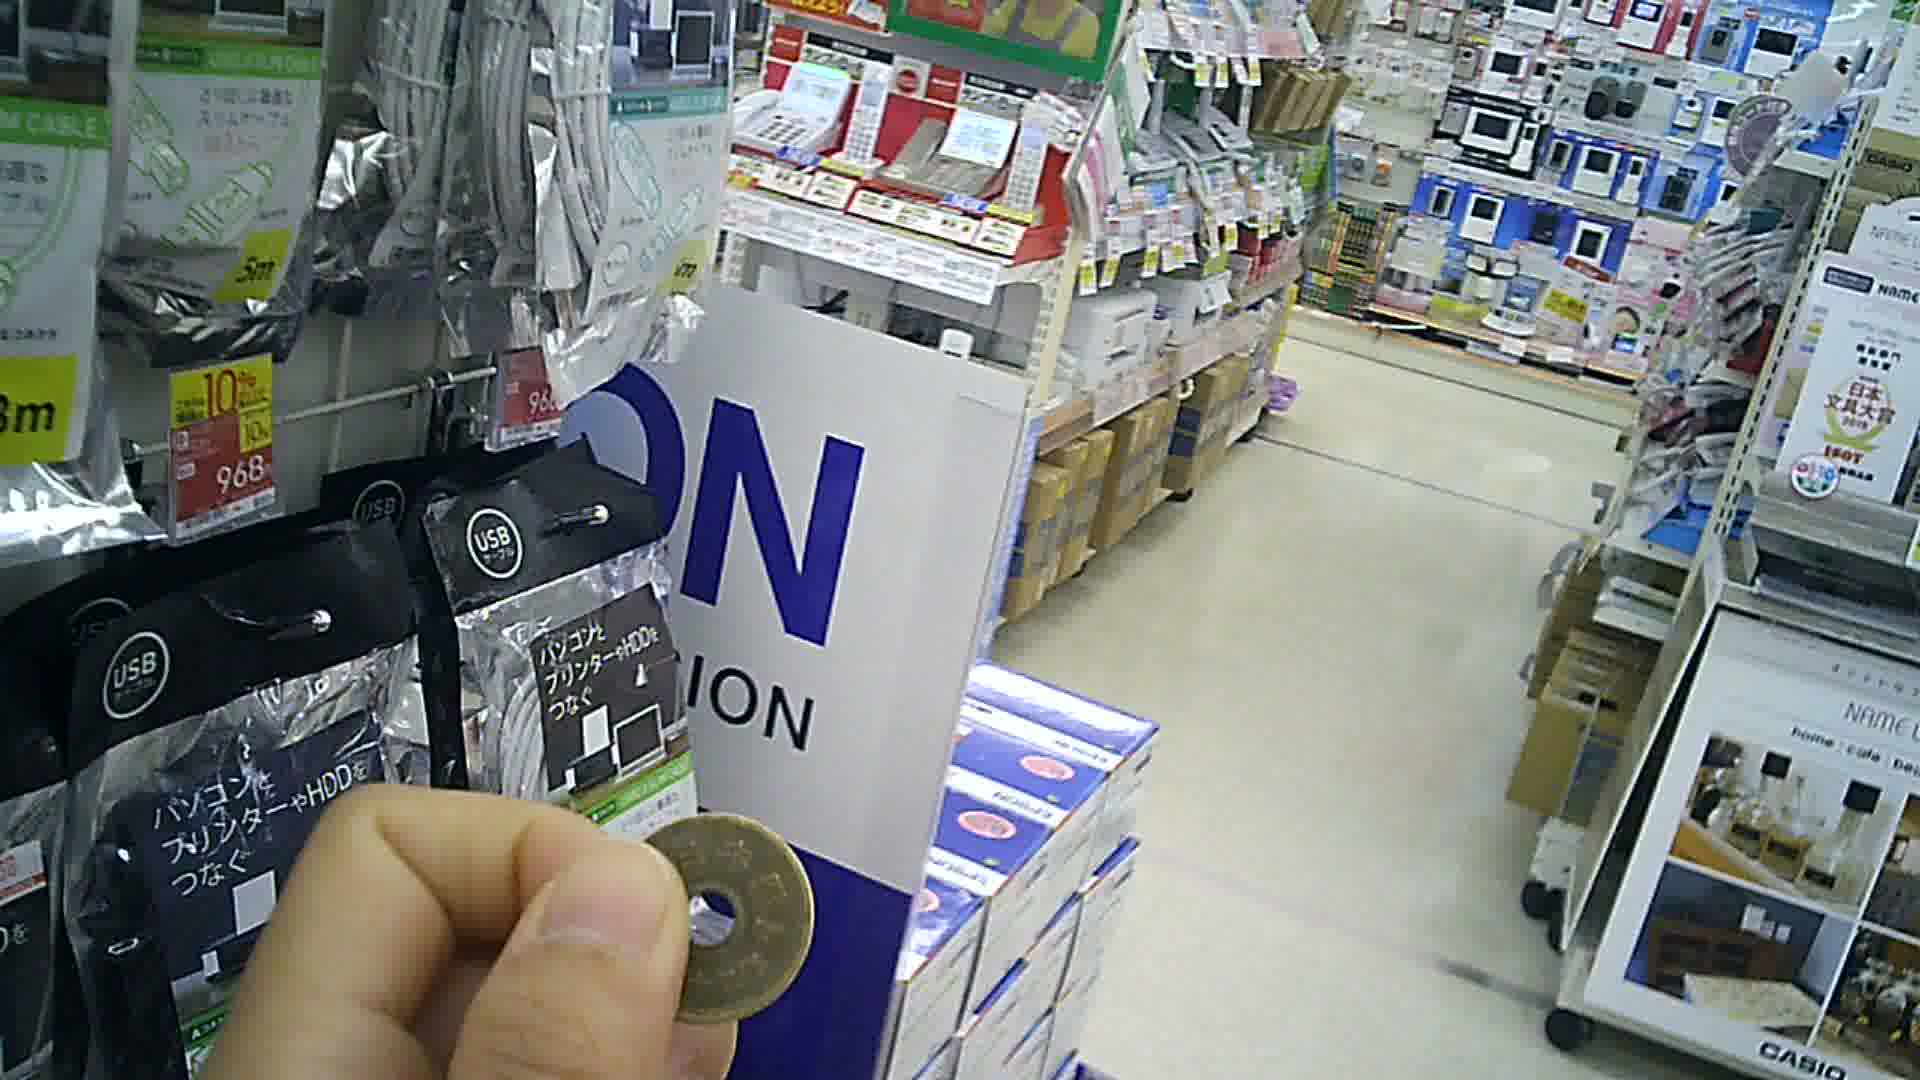5 Yen: (615, 795, 818, 1026)
